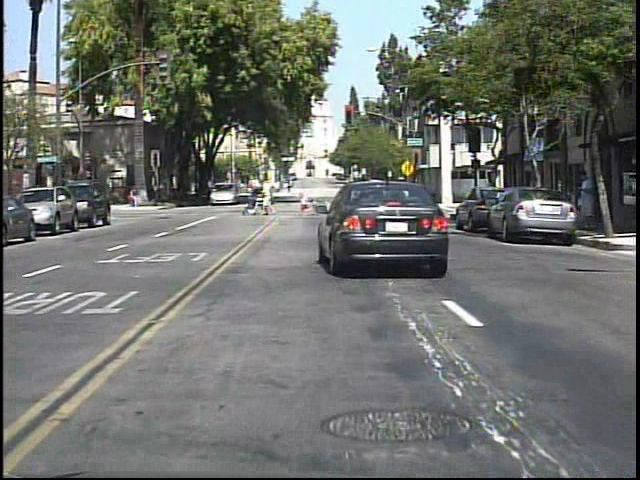person: (571, 170, 595, 236), (261, 177, 279, 219), (151, 181, 163, 208), (128, 185, 140, 211)
